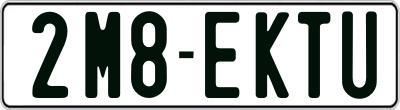2: (31, 10, 71, 100)
8: (131, 11, 167, 98)
E: (202, 10, 241, 99)
K: (254, 11, 289, 102)
M: (85, 11, 122, 98)
T: (296, 9, 330, 95)
U: (342, 10, 377, 99)
